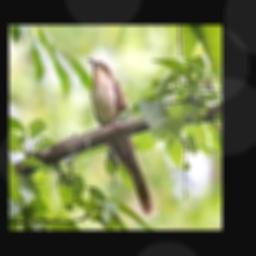Cuckoo: (87, 58, 159, 218)
